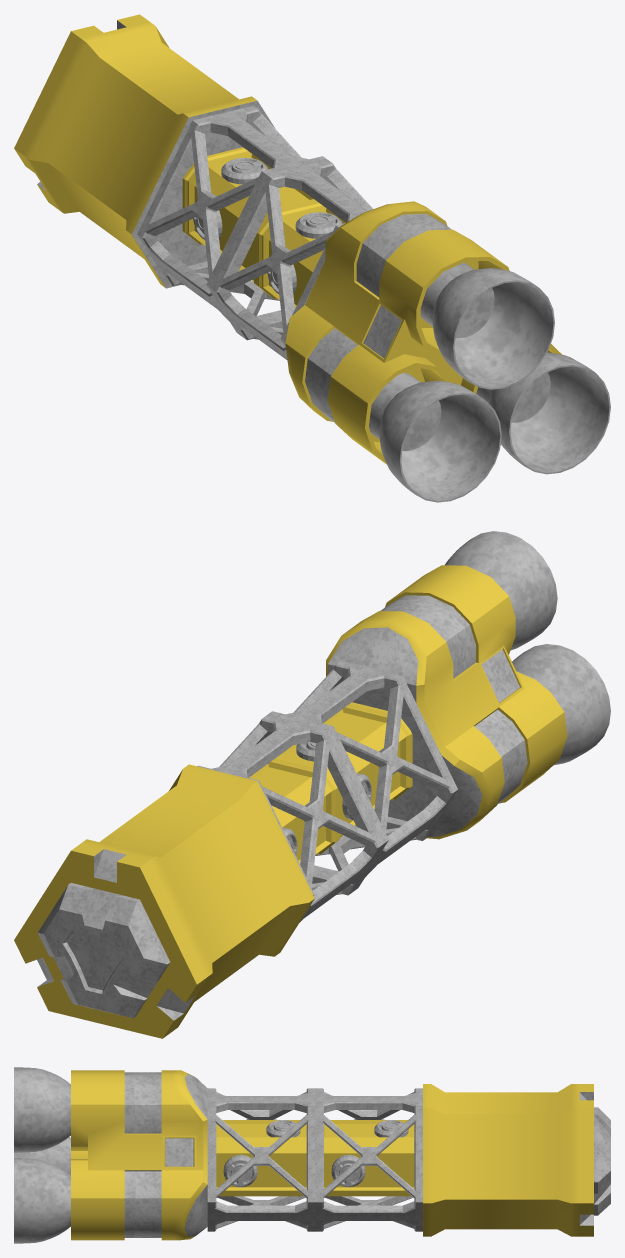
File: Corvette.fbx
3 views of the same model, one above another, from view 1: azimuth 30°, elevation 25°; view 2: azimuth 150°, elevation 25°; view 3: azimuth 270°, elevation 25° (orthographic). The views are drawn at different scales.
Parts seen in each view (by area): view 1: Cylinder.001, Cylinder.002, Cube.040, Cube.039, Cube.038, Cube.004, Cube.007, Cylinder.061, Cylinder.060, Cube.010, Cube.005, Cube.003; view 2: Cylinder.001, Cylinder.002, Cube.007, Cube.004, Cube.039, Cube.040, Cylinder.060, Cylinder.061, Cube.005, Cube.010, Cube.006; view 3: Cylinder.001, Cylinder.002, Cylinder.061, Cylinder.060, Cube.005, Cube.010, Cube.038, Cube.039, Cube.006, Cube.003, Cube.040, Cube.007 (+1 smaller).
Part boxes in pixels (x1=…): Cylinder.001: x1=14, y1=14, x2=275, y2=288; Cylinder.002: x1=285, y1=201, x2=561, y2=464; Cube.040: x1=369, y1=372, x2=501, y2=502; Cube.039: x1=420, y1=262, x2=554, y2=389; Cube.038: x1=476, y1=352, x2=610, y2=474; Cube.004: x1=137, y1=120, x2=266, y2=336; Cube.007: x1=211, y1=175, x2=338, y2=360; Cylinder.061: x1=182, y1=147, x2=316, y2=295; Cylinder.060: x1=256, y1=201, x2=345, y2=308; Cube.010: x1=193, y1=105, x2=327, y2=180; Cube.005: x1=267, y1=160, x2=372, y2=227; Cube.003: x1=173, y1=261, x2=281, y2=320; Cylinder.001: x1=14, y1=764, x2=314, y2=1038; Cylinder.002: x1=326, y1=565, x2=567, y2=839; Cube.007: x1=328, y1=675, x2=457, y2=890; Cube.004: x1=258, y1=730, x2=383, y2=922; Cube.039: x1=445, y1=531, x2=557, y2=650; Cube.040: x1=512, y1=644, x2=610, y2=765; Cylinder.060: x1=278, y1=702, x2=412, y2=850; Cylinder.061: x1=249, y1=756, x2=338, y2=863; Cube.005: x1=267, y1=660, x2=402, y2=735; Cube.010: x1=197, y1=715, x2=327, y2=780; Cube.006: x1=313, y1=816, x2=421, y2=875; Cylinder.001: x1=423, y1=1084, x2=610, y2=1236; Cylinder.002: x1=71, y1=1070, x2=207, y2=1240; Cylinder.061: x1=324, y1=1120, x2=414, y2=1196; Cylinder.060: x1=216, y1=1120, x2=306, y2=1196; Cube.005: x1=207, y1=1088, x2=315, y2=1202; Cube.010: x1=315, y1=1088, x2=422, y2=1202; Cube.038: x1=14, y1=1158, x2=70, y2=1243; Cube.039: x1=14, y1=1067, x2=70, y2=1152; Cube.006: x1=207, y1=1196, x2=315, y2=1231; Cube.003: x1=315, y1=1196, x2=422, y2=1231; Cube.040: x1=14, y1=1137, x2=70, y2=1174; Cube.007: x1=216, y1=1092, x2=306, y2=1119.
Size of the model in its own units: 1035 by 967 by 3493.
